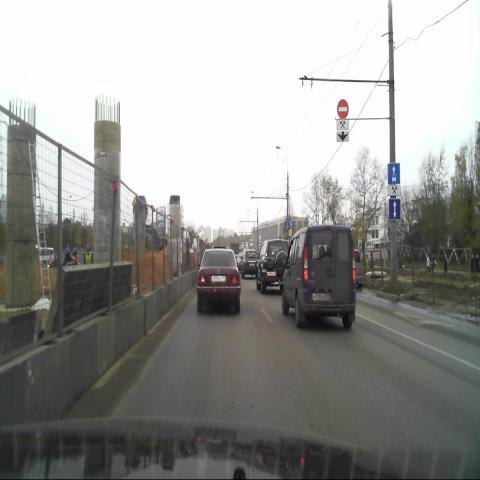5_14: (388, 163, 400, 184)
5_8: (389, 198, 400, 219)
